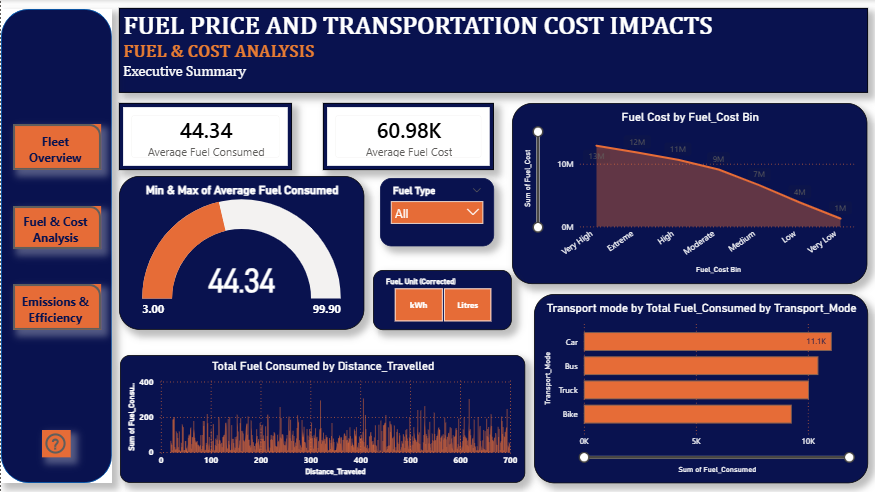

What the dashboard file says about the page in this screenshot:
{"tool":"powerbi","page":{"name":" Page 2","canvas":[1280,720],"ordinal":1},"visuals":[{"type":"textbox","box":[172.7,11.7,1096.1,124.4],"z":0},{"type":"shape","box":[0,13.2,162.4,693.7],"z":1000},{"type":"actionButton","box":[17.6,181.5,128.8,67.3],"z":2000},{"type":"actionButton","box":[17.6,301.5,128.8,62.9],"z":3000},{"type":"actionButton","box":[17.6,415.6,128.8,67.3],"z":4000},{"type":"cardVisual","fields":{"Data":["Avg(Working Dataset.Fuel_Consumed)"]},"box":[172.7,150.7,253.2,98],"z":5000},{"type":"cardVisual","fields":{"Data":["Avg(Working Dataset.Fuel_Cost)"]},"box":[471.2,150.7,250.2,98],"z":6000},{"type":"clusteredBarChart","title":"Transport mode by Total Fuel_Consumed by Transport_Mode","fields":{"Y":["Sum(Working Dataset.Fuel_Consumed)"],"Category":["Working Dataset.Transport_Mode"]},"box":[780,430.2,488.8,276.6],"z":7000},{"type":"lineChart","title":" Fuel Cost by Fuel_Cost Bin","fields":{"Y":["Sum(Working Dataset.Fuel_Cost)"],"Category":["Working Dataset.Fuel_Cost Bin"]},"box":[747.8,150.7,519.5,264.9],"z":8000},{"type":"gauge","title":"Min & Max of Average Fuel Consumed","fields":{"Y":["Avg(Working Dataset.Fuel_Consumed)"],"MinValue":["Min(Working Dataset.Fuel_Consumed)"],"MaxValue":["Max(Working Dataset.Fuel_Consumed)"]},"box":[172.7,257.6,358.5,225.4],"z":9000},{"type":"slicer","title":"Fuel Type","fields":{"Values":["Working Dataset.Fuel_Type"]},"box":[554.6,260.5,166.8,99.5],"z":10000},{"type":"slicer","fields":{"Values":["Working Dataset.FueL_Unit(Corrected)"]},"box":[544.4,395.1,203.4,87.8],"z":11000},{"type":"ribbonChart","title":"Total Fuel Consumed by Distance_Travelled","fields":{"Category":["Working Dataset.Distance_Traveled"],"Y":["Sum(Working Dataset.Fuel_Consumed)"]},"box":[174.1,519.5,592.7,187.3],"z":12000},{"type":"actionButton","title":"help","box":[60,629.3,42.4,39.5],"z":14000}]}

Visuals, with their boxes in screenshot pixels (x1, y1, x2, y2), scaled from the page's 1280x720 canvas onto the 875x492 screenshot:
textbox: l=118, t=8, r=867, b=93
shape: l=0, t=9, r=111, b=483
actionButton: l=12, t=124, r=100, b=170
actionButton: l=12, t=206, r=100, b=249
actionButton: l=12, t=284, r=100, b=330
cardVisual - Avg(Working Dataset.Fuel_Consumed): l=118, t=103, r=291, b=170
cardVisual - Avg(Working Dataset.Fuel_Cost): l=322, t=103, r=493, b=170
"Transport mode by Total Fuel_Consumed by Transport_Mode" clusteredBarChart: l=533, t=294, r=867, b=483
" Fuel Cost by Fuel_Cost Bin" lineChart: l=511, t=103, r=866, b=284
"Min & Max of Average Fuel Consumed" gauge: l=118, t=176, r=363, b=330
"Fuel Type" slicer: l=379, t=178, r=493, b=246
slicer - Working Dataset.FueL_Unit(Corrected): l=372, t=270, r=511, b=330
"Total Fuel Consumed by Distance_Travelled" ribbonChart: l=119, t=355, r=524, b=483
"help" actionButton: l=41, t=430, r=70, b=457
